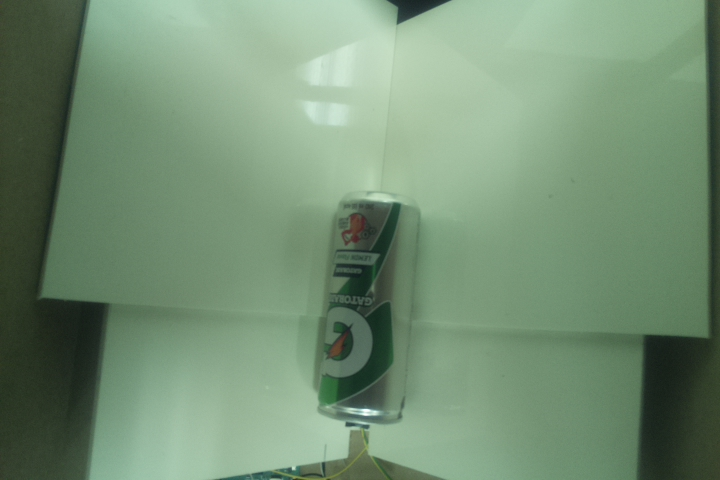can: (311, 189, 420, 430)
